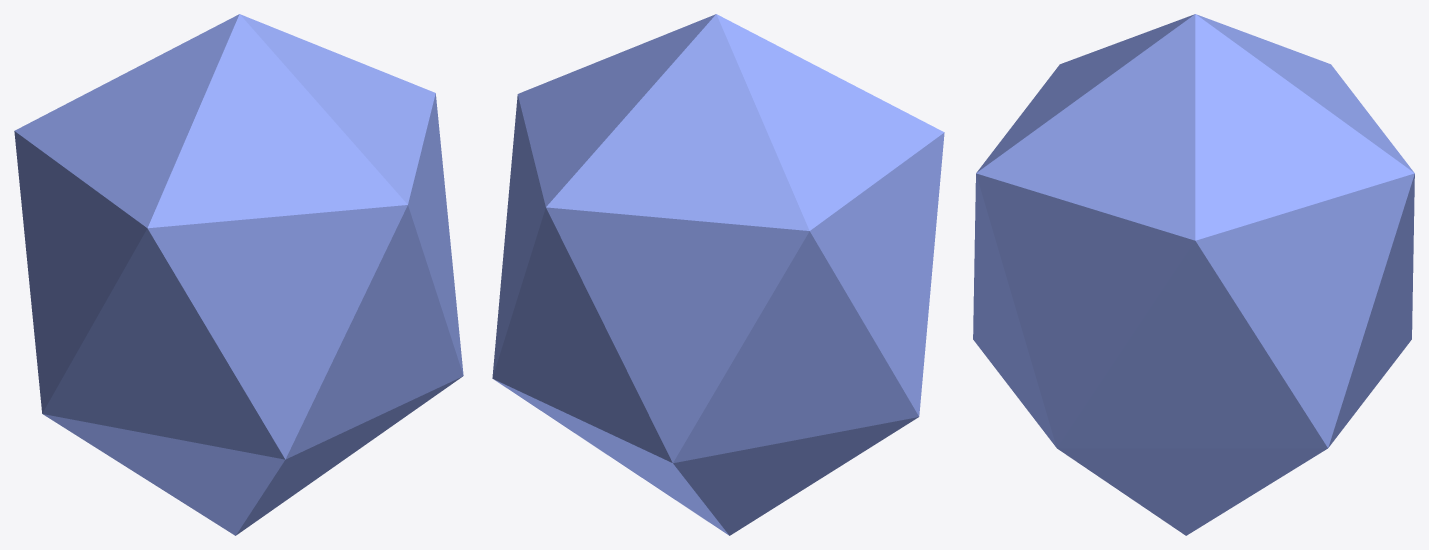
Rendered from tree_top.fbx.
The picture shows the model from 3 angles, left to right: view 1: azimuth 30°, elevation 25°; view 2: azimuth 150°, elevation 25°; view 3: azimuth 270°, elevation 25°; orthographic projection.
Parts seen in each view (by area): view 1: Icosphere.008; view 2: Icosphere.008; view 3: Icosphere.008.
Boxes of the visible parts, box(x1,y1,x2,y2) form: Icosphere.008: box(14, 14, 463, 535); Icosphere.008: box(492, 14, 944, 535); Icosphere.008: box(973, 14, 1414, 535).
Bounding box in the file's own units: 13.12 × 13.8 × 17.24.
